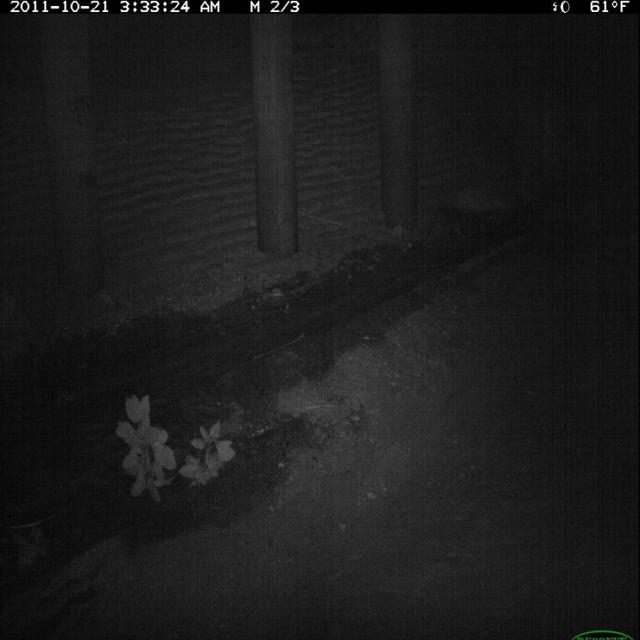raccoon: (423, 201, 472, 256)
